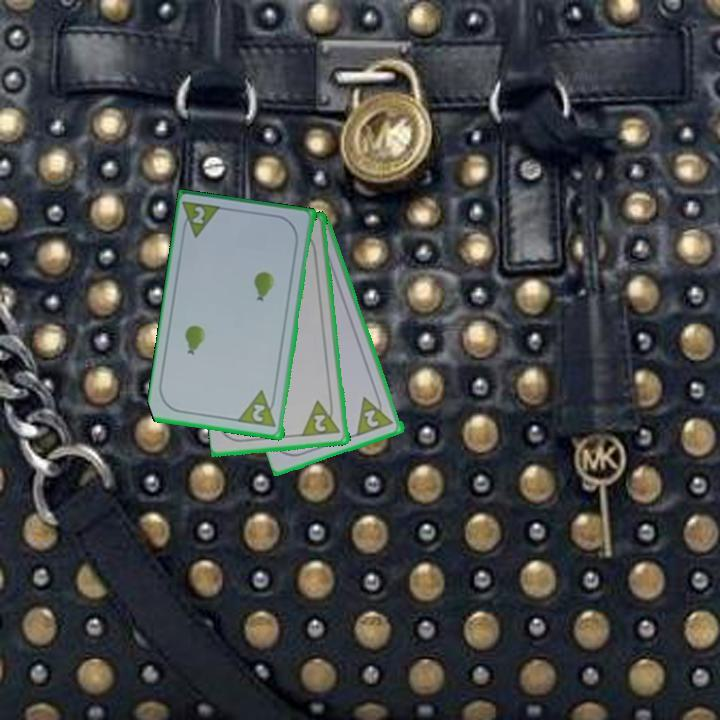2p: (353, 389, 396, 439), (300, 396, 344, 440), (236, 387, 279, 431), (189, 203, 208, 227)
